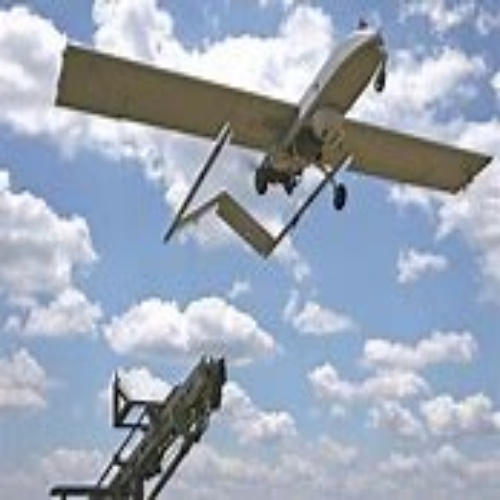uav512: (50, 20, 492, 258)
